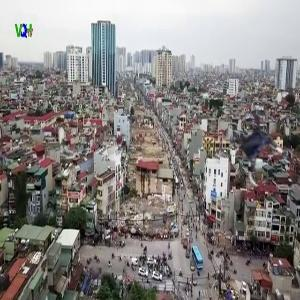drone: (217, 106, 299, 188)
